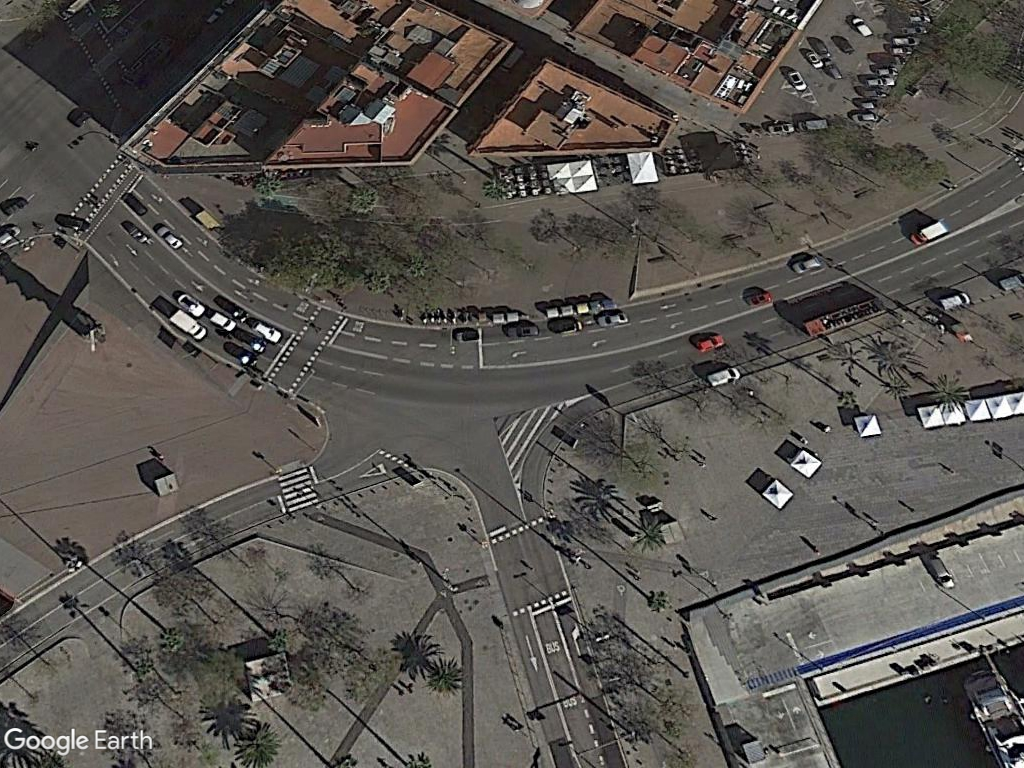truck: (165, 303, 209, 342)
